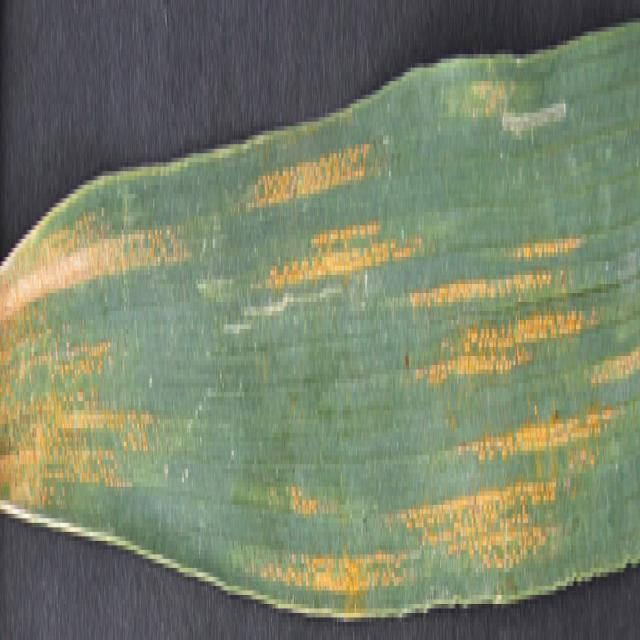leaf rust: (240, 153, 638, 631), (1, 176, 188, 545)
